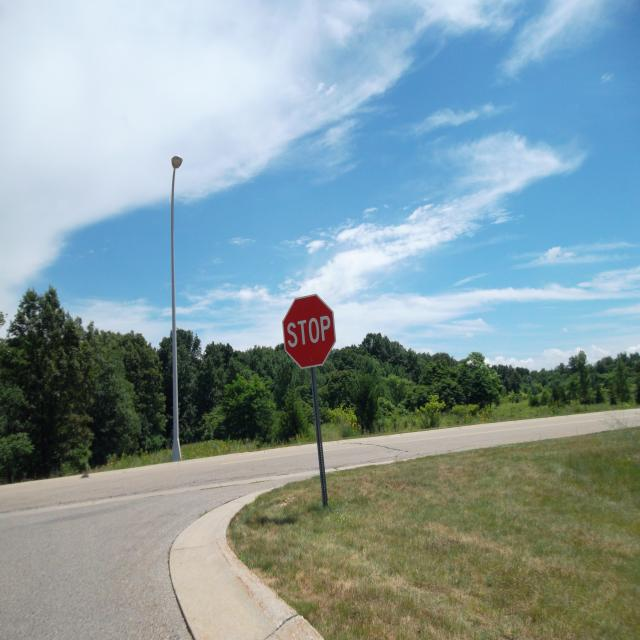stop: (278, 290, 336, 370)
